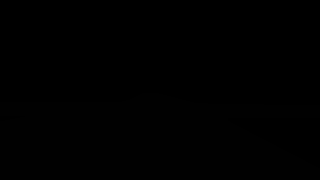go_ahead: (235, 16, 277, 53)
